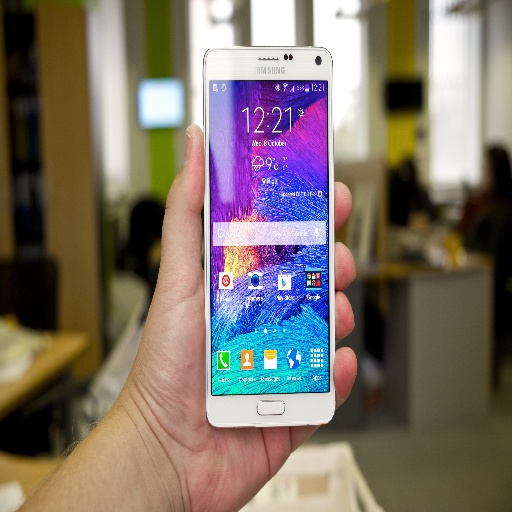hand: (128, 120, 356, 511)
